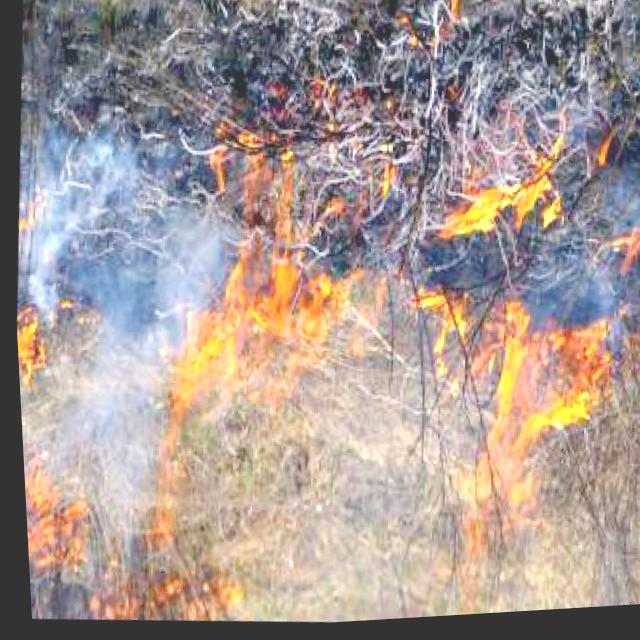helmet: (139, 138, 362, 475), (417, 298, 615, 601), (18, 444, 247, 633), (435, 126, 576, 276), (388, 283, 471, 369)
no_helmet: (5, 119, 237, 472)
